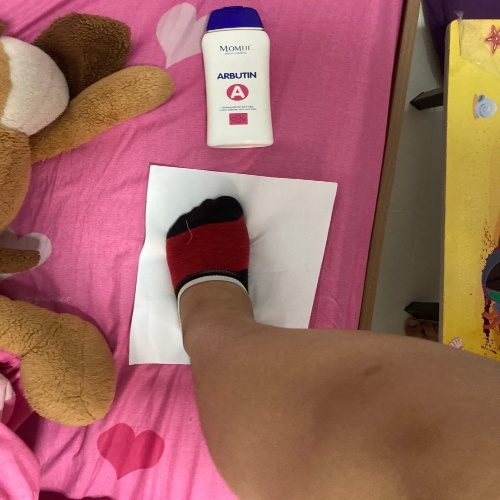Top_Foot: (107, 147, 341, 389)
